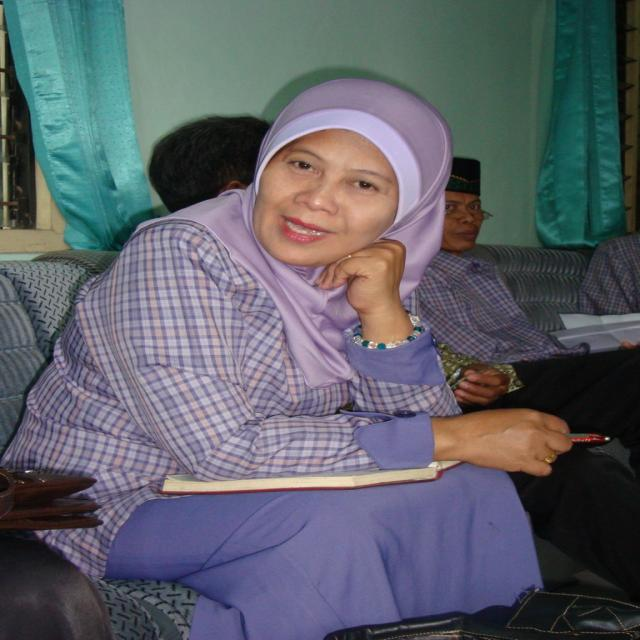Hat: (444, 154, 483, 198)
